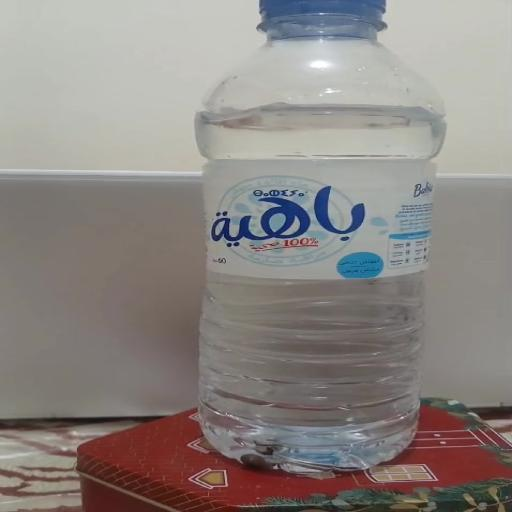bouteille conformite: (182, 0, 448, 474)
